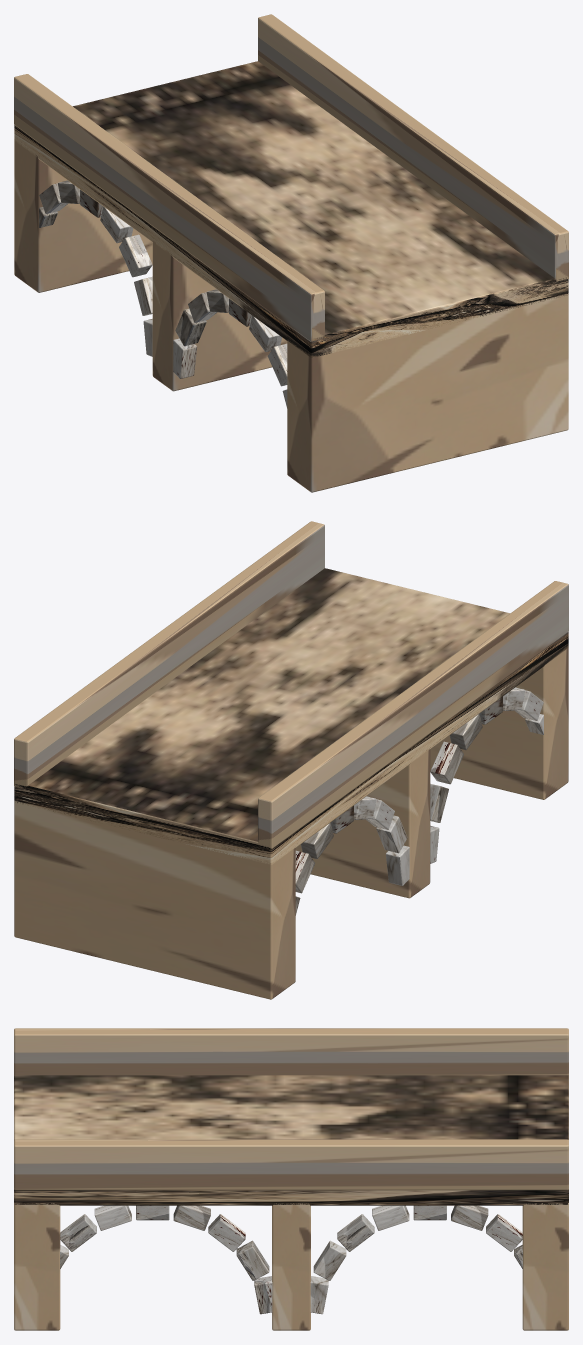
Rendered from bridge_stone_12x6m_LOD1.glb.
The picture shows the model from 3 angles, top to bottom: view 1: azimuth 30°, elevation 25°; view 2: azimuth 150°, elevation 25°; view 3: azimuth 270°, elevation 25°; orthographic projection. The views are drawn at different scales.
Visible parts, largest first — view 1: LOD1_Deck, LOD1_Support, LOD1_Parapet, LOD1_Parapet.001, LOD1_Support.002, LOD1_Support.001, LOD1_Archivolt.015, LOD1_Archivolt, LOD1_Archivolt.001, LOD1_Archivolt.014, LOD1_Archivolt.005, LOD1_Archivolt.006; view 2: LOD1_Deck, LOD1_Support.002, LOD1_Parapet, LOD1_Parapet.001, LOD1_Support, LOD1_Support.001, LOD1_Archivolt.002, LOD1_Archivolt.017, LOD1_Archivolt.016, LOD1_Archivolt.003, LOD1_Archivolt.012, LOD1_Archivolt.011; view 3: LOD1_Deck, LOD1_Parapet.001, LOD1_Parapet, LOD1_Support.002, LOD1_Support, LOD1_Support.001, LOD1_Archivolt.020, LOD1_Archivolt.033, LOD1_Archivolt.024, LOD1_Archivolt.029, LOD1_Archivolt.019, LOD1_Archivolt.034 (+8 smaller).
Part boxes in pixels (x1,y1,x2,y2): LOD1_Deck: (14, 61, 568, 357); LOD1_Support: (287, 293, 568, 492); LOD1_Parapet: (14, 74, 324, 341); LOD1_Parapet.001: (258, 14, 568, 281); LOD1_Support.002: (14, 139, 152, 292); LOD1_Support.001: (152, 240, 287, 391); LOD1_Archivolt.015: (119, 234, 152, 277); LOD1_Archivolt: (173, 338, 197, 378); LOD1_Archivolt.001: (175, 308, 206, 346); LOD1_Archivolt.014: (100, 206, 133, 243); LOD1_Archivolt.005: (249, 315, 281, 351); LOD1_Archivolt.006: (267, 343, 287, 386); LOD1_Deck: (14, 568, 568, 864); LOD1_Support.002: (14, 800, 295, 999); LOD1_Parapet: (258, 581, 568, 848); LOD1_Parapet.001: (14, 521, 324, 788); LOD1_Support: (430, 648, 568, 799); LOD1_Support.001: (295, 749, 430, 898); LOD1_Archivolt.002: (430, 741, 463, 784); LOD1_Archivolt.017: (385, 845, 409, 885); LOD1_Archivolt.016: (376, 815, 407, 853); LOD1_Archivolt.003: (449, 713, 482, 750); LOD1_Archivolt.012: (301, 822, 333, 858); LOD1_Archivolt.011: (295, 850, 315, 893); LOD1_Deck: (14, 1075, 568, 1205); LOD1_Parapet.001: (14, 1139, 568, 1190); LOD1_Parapet: (14, 1028, 568, 1075); LOD1_Support.002: (522, 1203, 568, 1330); LOD1_Support: (14, 1203, 60, 1330); LOD1_Support.001: (272, 1203, 310, 1330); LOD1_Archivolt.020: (208, 1214, 245, 1251); LOD1_Archivolt.033: (337, 1214, 374, 1251); LOD1_Archivolt.024: (60, 1214, 96, 1251); LOD1_Archivolt.029: (486, 1214, 522, 1251); LOD1_Archivolt.019: (236, 1240, 269, 1280); LOD1_Archivolt.034: (313, 1240, 346, 1280).
Bounding box in the file's own units: 6.02 × 4.43 × 12.
3 materials, 3 textured.
